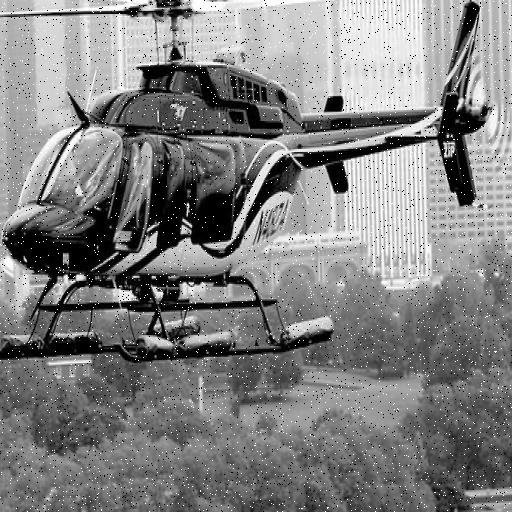helicopter: (1, 1, 512, 372)
